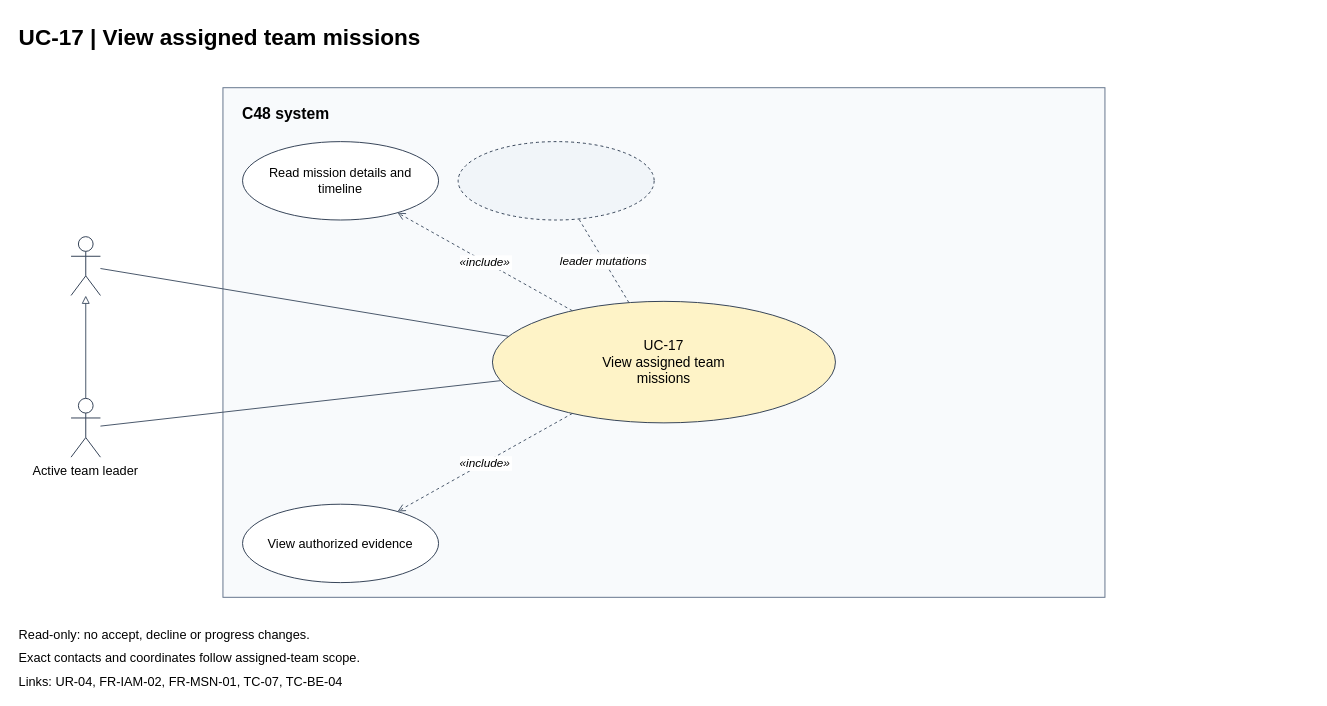
Some shapes in this 1327 by 706 pixel diagram are drawn without their labels. The box of each missing label's shape, as (x1, y1, x2, y2) in pixels:
Team member: (70, 236, 100, 295)
UC-03 Assign and accept mission: (457, 141, 654, 220)
